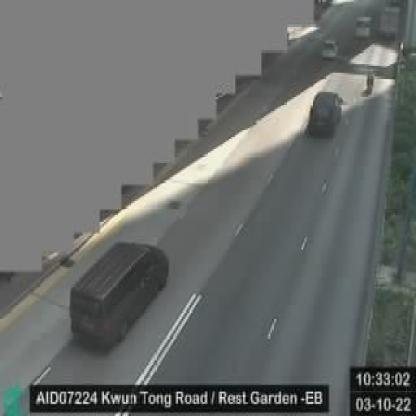Car: (69, 241, 168, 345), (307, 92, 339, 140), (352, 14, 372, 38), (320, 40, 339, 57)
